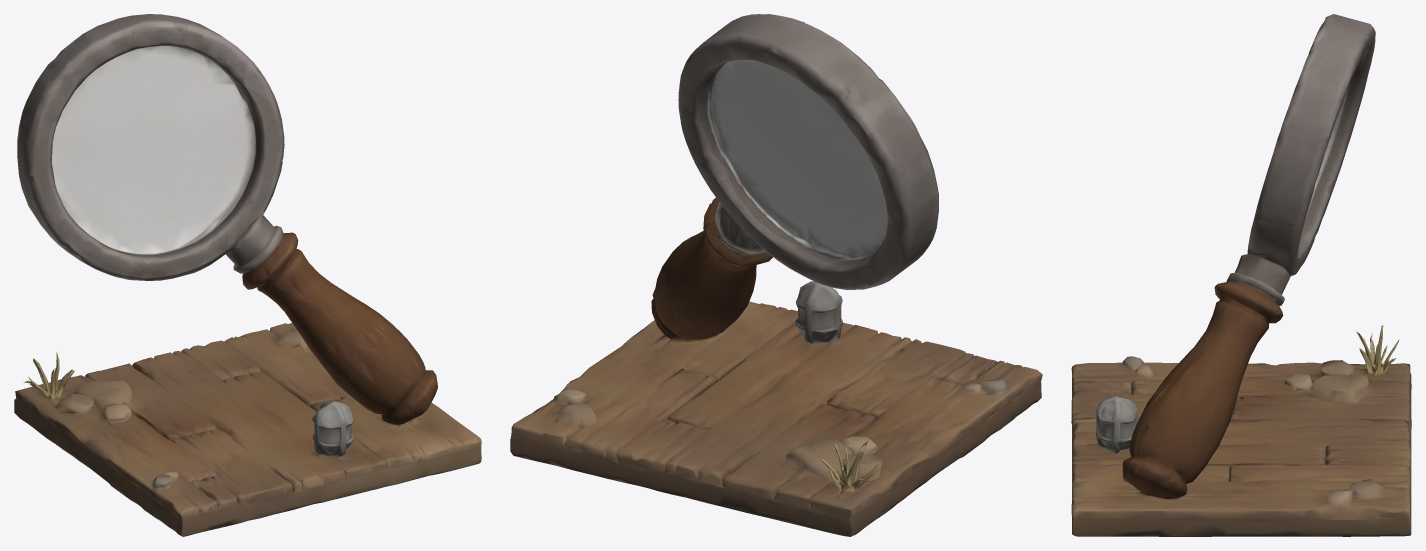
The model's file is item_magnifier.glb.
3 views of the same model, side by side, from view 1: azimuth 30°, elevation 25°; view 2: azimuth 150°, elevation 25°; view 3: azimuth 270°, elevation 25° (orthographic). The views are drawn at different scales.
Parts seen in each view (by area): view 1: tripo_node_be4b1bf6-066d-4b28-b467-93f8f86939e4; view 2: tripo_node_be4b1bf6-066d-4b28-b467-93f8f86939e4; view 3: tripo_node_be4b1bf6-066d-4b28-b467-93f8f86939e4.
Part boxes in pixels (x1,y1,x2,y2): tripo_node_be4b1bf6-066d-4b28-b467-93f8f86939e4: [14, 14, 481, 536]; tripo_node_be4b1bf6-066d-4b28-b467-93f8f86939e4: [510, 14, 1042, 536]; tripo_node_be4b1bf6-066d-4b28-b467-93f8f86939e4: [1071, 14, 1411, 536].
Bounding box in the file's own units: 0.8621 × 1 × 0.7567.
1 material, 1 textured.
